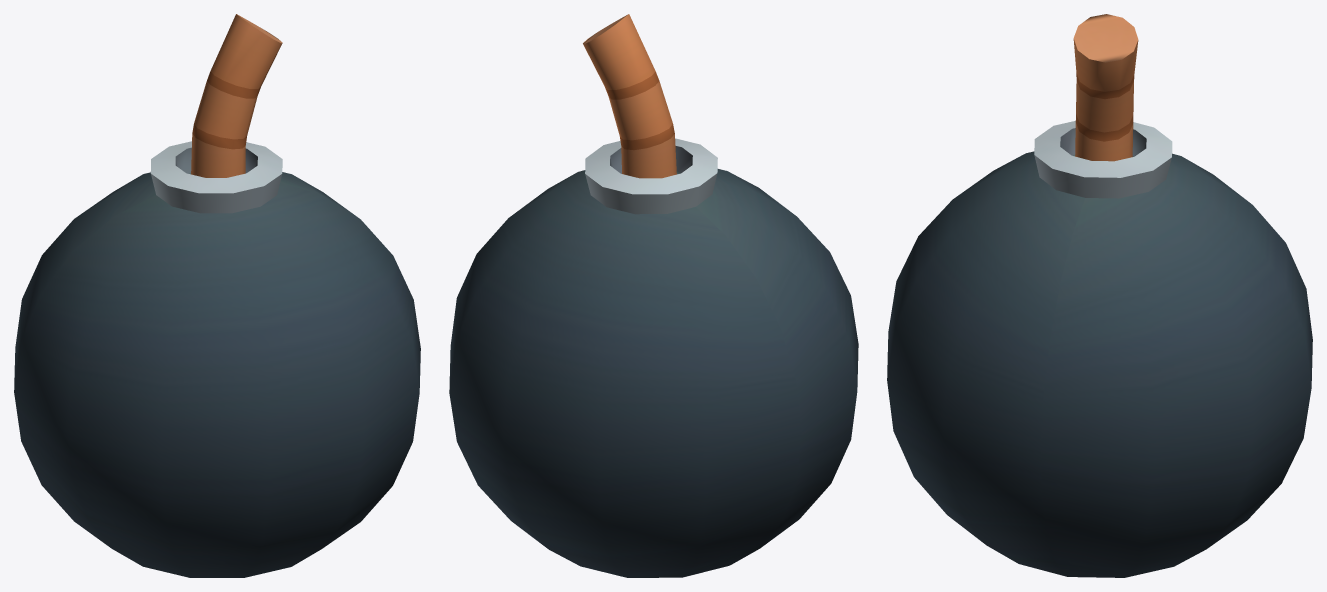
The model's file is bomb.fbx.
3 views of the same model, side by side, from view 1: azimuth 30°, elevation 25°; view 2: azimuth 150°, elevation 25°; view 3: azimuth 270°, elevation 25° (orthographic). The views are drawn at different scales.
Parts seen in each view (by area): view 1: bomb; view 2: bomb; view 3: bomb.
Part boxes in pixels (x1=…): bomb: x1=14, y1=14, x2=420, y2=577; bomb: x1=449, y1=14, x2=858, y2=577; bomb: x1=887, y1=14, x2=1312, y2=577.
Size of the model in its own units: 7.86 by 11.39 by 7.86.
Materials: 1 (1 with a texture image).
